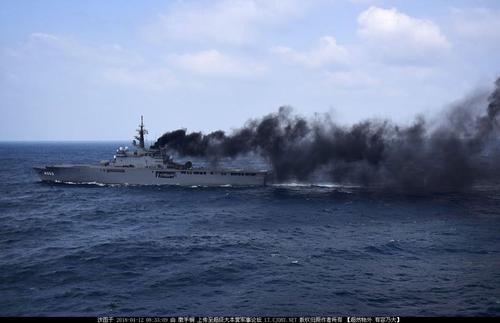smoke: (149, 108, 500, 177)
